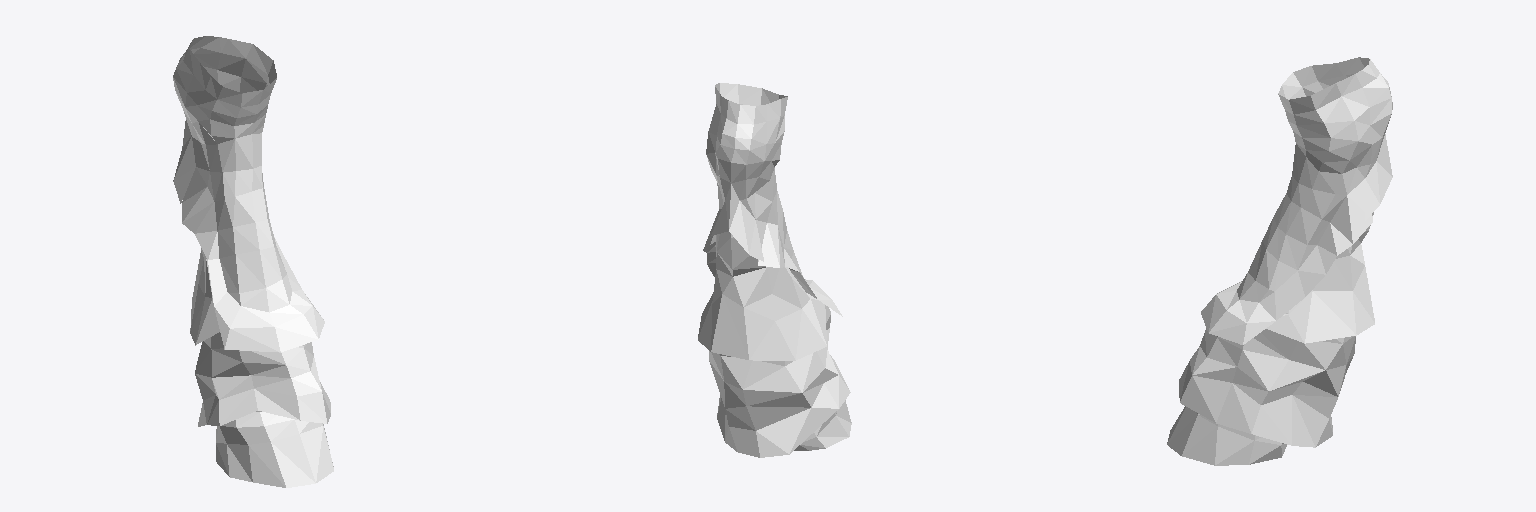
Rendered from leg_rear_lower_left.obj.
3 renders of one model, left to right at view 1: azimuth 30°, elevation 25°; view 2: azimuth 150°, elevation 25°; view 3: azimuth 270°, elevation 25°, orthographic.
Visible parts, largest first — view 1: horse; view 2: horse; view 3: horse.
Boxes of the visible parts, x1,y1,x2,y2 form: horse: [173, 36, 333, 487]; horse: [698, 83, 851, 457]; horse: [1167, 57, 1392, 465].
Bounding box in the file's own units: 9.94 × 29.83 × 16.19.